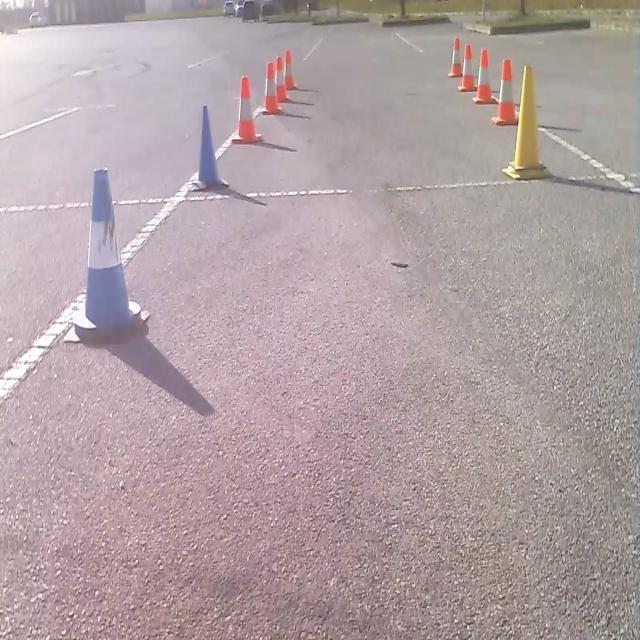blue_cone: (73, 164, 148, 343), (197, 104, 229, 188)
orange_cone: (231, 75, 262, 144), (492, 57, 518, 126), (472, 47, 496, 104), (262, 61, 282, 115), (457, 42, 476, 92), (274, 55, 289, 101), (448, 36, 462, 77), (284, 48, 296, 88)
yellow_cone: (502, 63, 549, 179)
